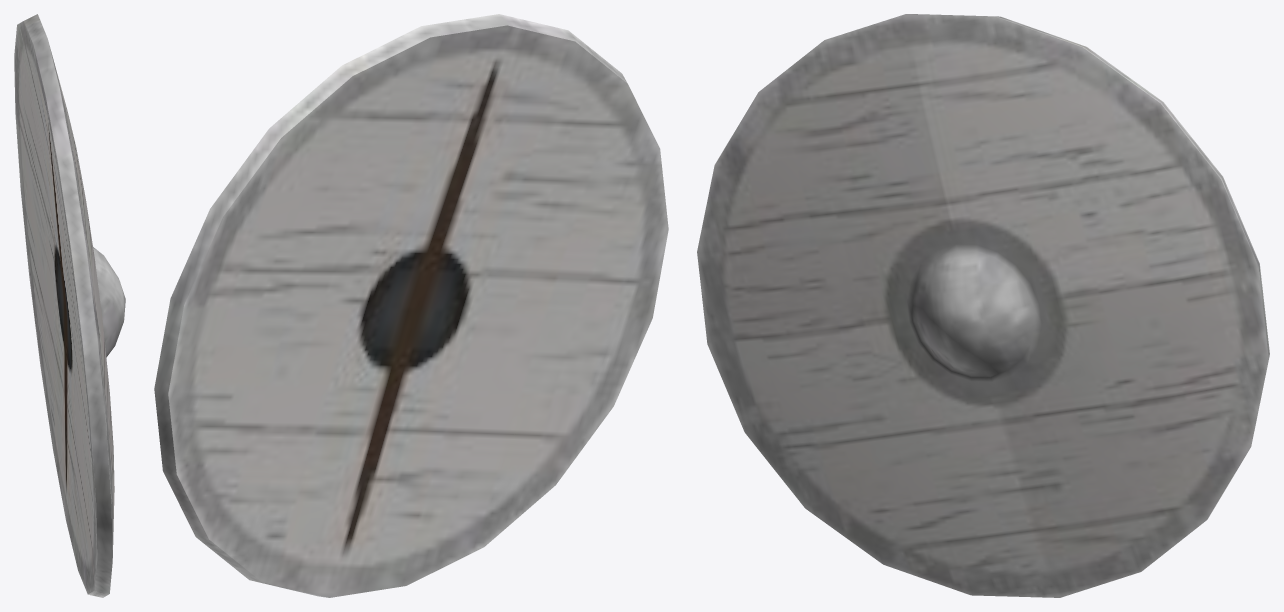
Rendered from shield-coppershields.glb.
3 views of the same model, side by side, from view 1: azimuth 30°, elevation 25°; view 2: azimuth 150°, elevation 25°; view 3: azimuth 270°, elevation 25° (orthographic). The views are drawn at different scales.
Size of the model in its own units: 0.2712 by 0.6558 by 0.6064.
1 material, 1 textured.
